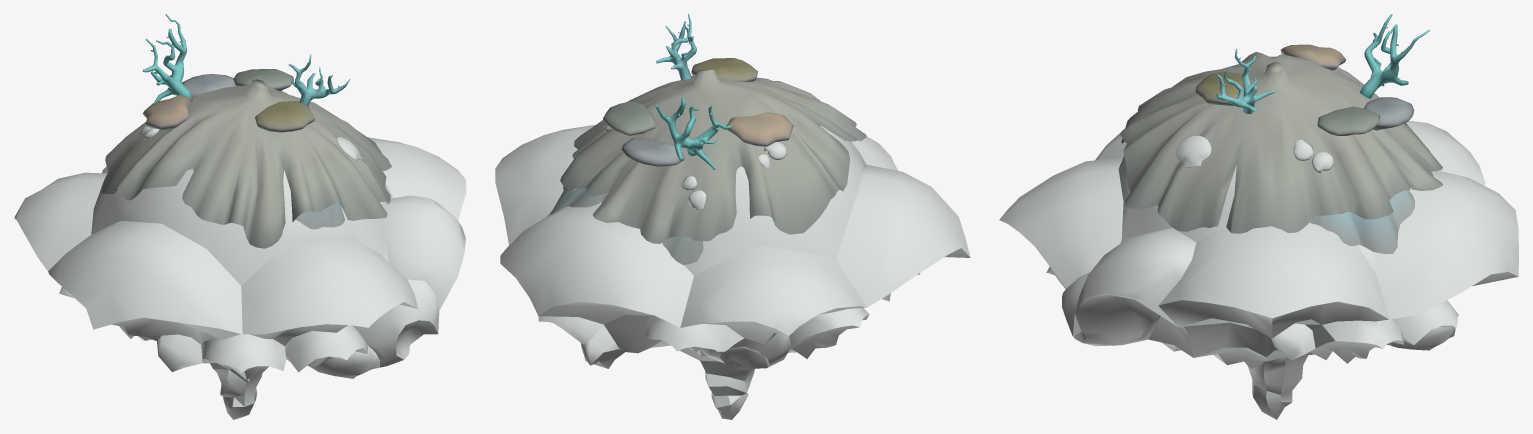
3 views of the same model, side by side, from view 1: azimuth 30°, elevation 25°; view 2: azimuth 150°, elevation 25°; view 3: azimuth 270°, elevation 25° (orthographic). The views are drawn at different scales.
Parts seen in each view (by area): view 1: G:\FFXIV-MapTools\exports\e3f1\bg\ex2\02_est_e3\fld\e3f1\bgp (×6); view 2: G:\FFXIV-MapTools\exports\e3f1\bg\ex2\02_est_e3\fld\e3f1\bgp (×6); view 3: G:\FFXIV-MapTools\exports\e3f1\bg\ex2\02_est_e3\fld\e3f1\bgp (×6).
Boxes of the visible parts, <box> form: G:\FFXIV-MapTools\exports\e3f1\bg\ex2\02_est_e3\fld\e3f1\bgp (×6): <box>14,14,466,419</box>; G:\FFXIV-MapTools\exports\e3f1\bg\ex2\02_est_e3\fld\e3f1\bgp (×6): <box>495,14,970,419</box>; G:\FFXIV-MapTools\exports\e3f1\bg\ex2\02_est_e3\fld\e3f1\bgp (×6): <box>999,14,1518,419</box>.
Size of the model in its own units: 14.55 by 12.42 by 14.7.
